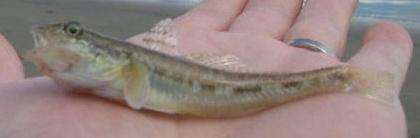Goby: (12, 12, 358, 122)
